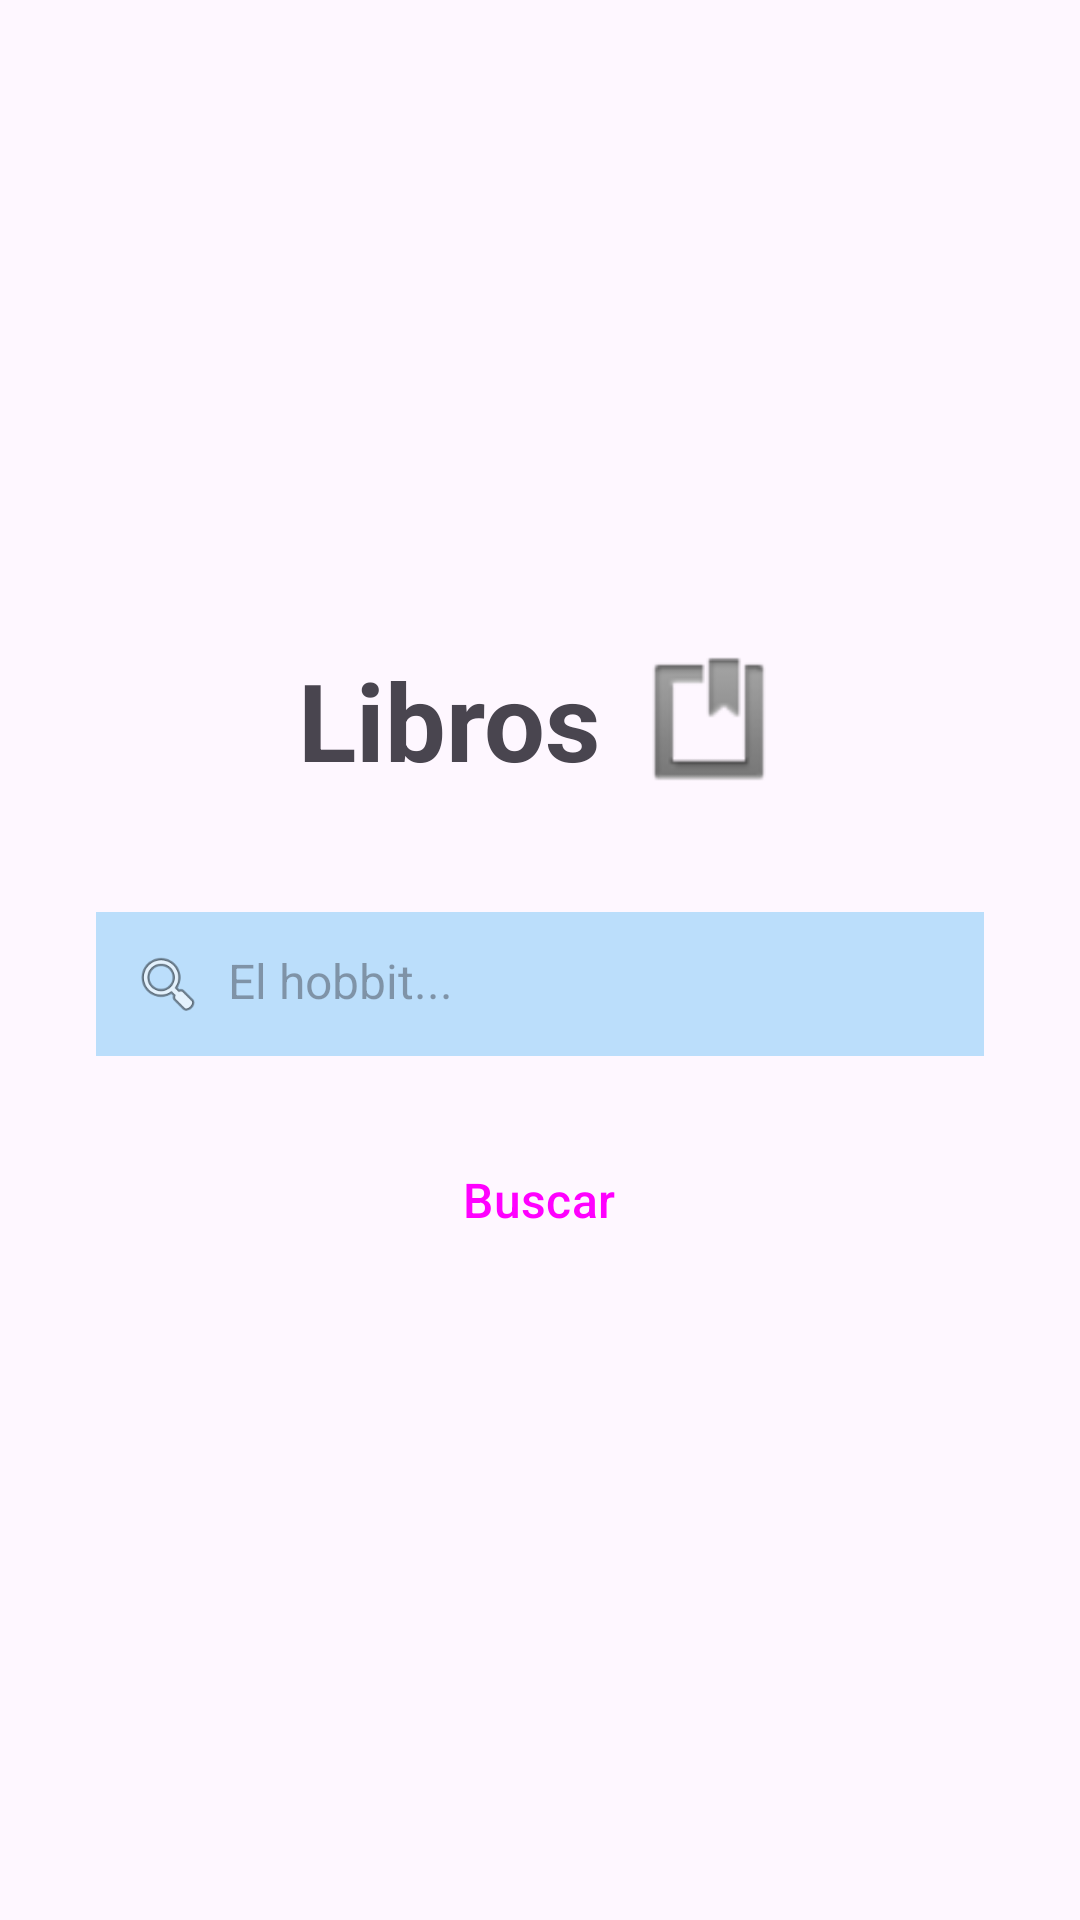

Icon click points for this 1080px×1920px phone screenshot, format (x,y):
Buscar: (168,984)
